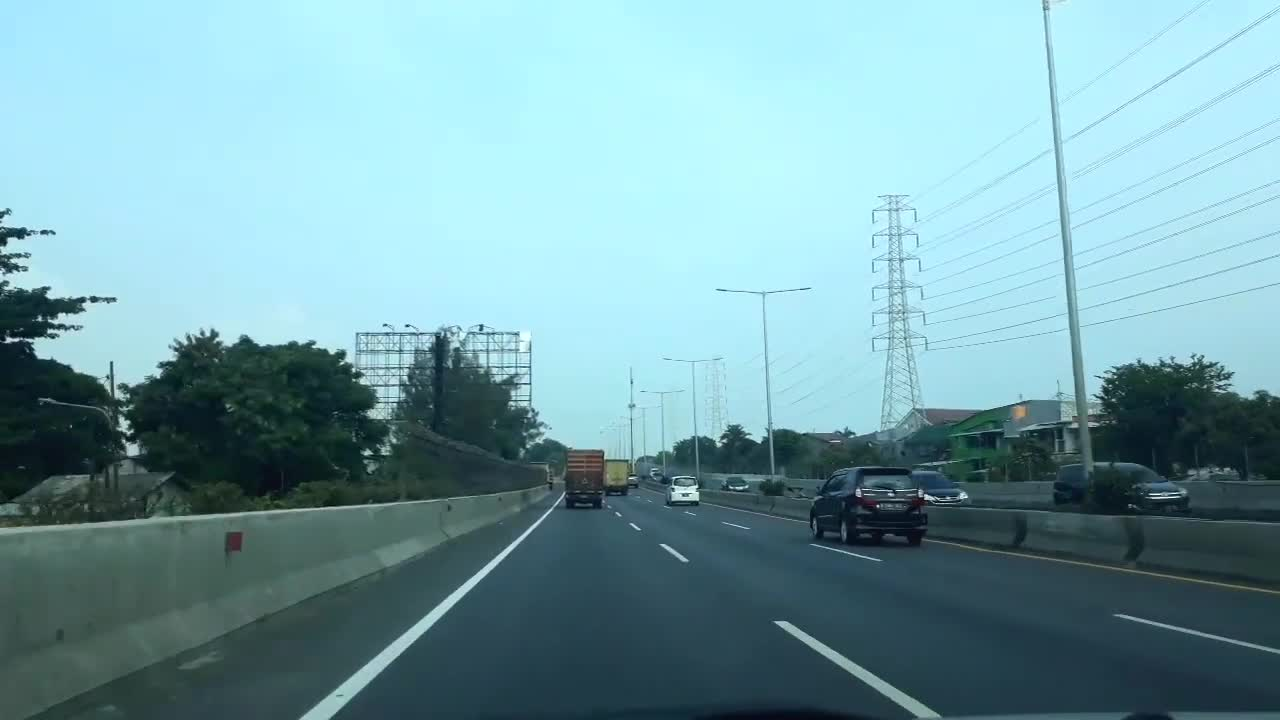plate_positive: (879, 503, 903, 510), (682, 493, 690, 497)
